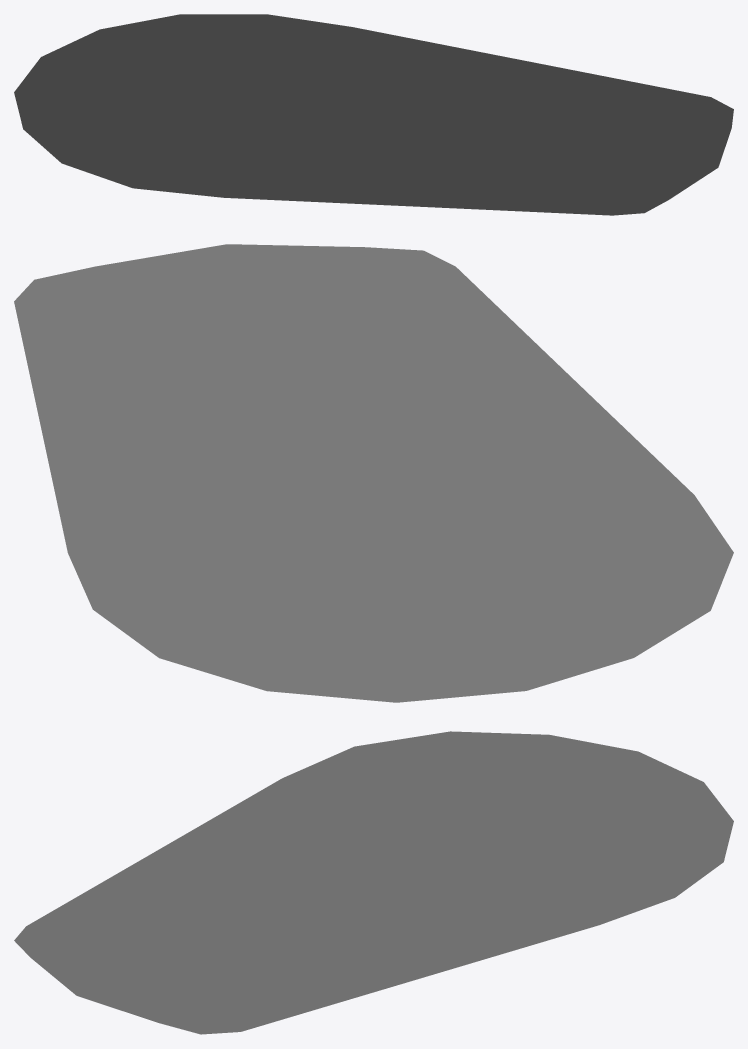
3 renders of one model, top to bottom at view 1: azimuth 30°, elevation 25°; view 2: azimuth 150°, elevation 25°; view 3: azimuth 270°, elevation 25°, orthographic. The views are drawn at different scales.
Parts seen in each view (by area): view 1: Joint_0_Object_0; view 2: Joint_0_Object_0; view 3: Joint_0_Object_0.
Boxes of the visible parts, x1,y1,x2,y2 form: Joint_0_Object_0: (14,14,733,215); Joint_0_Object_0: (14,244,733,702); Joint_0_Object_0: (14,731,733,1034).
Size of the model in its own units: 490 by 0 by 492.
